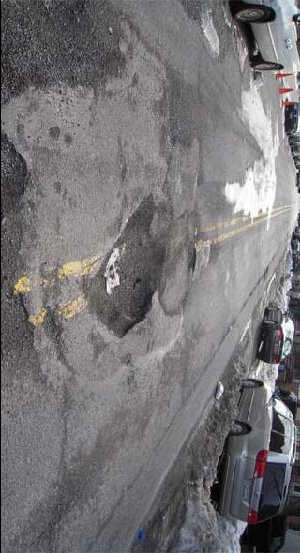pothole: (185, 247, 200, 272)
